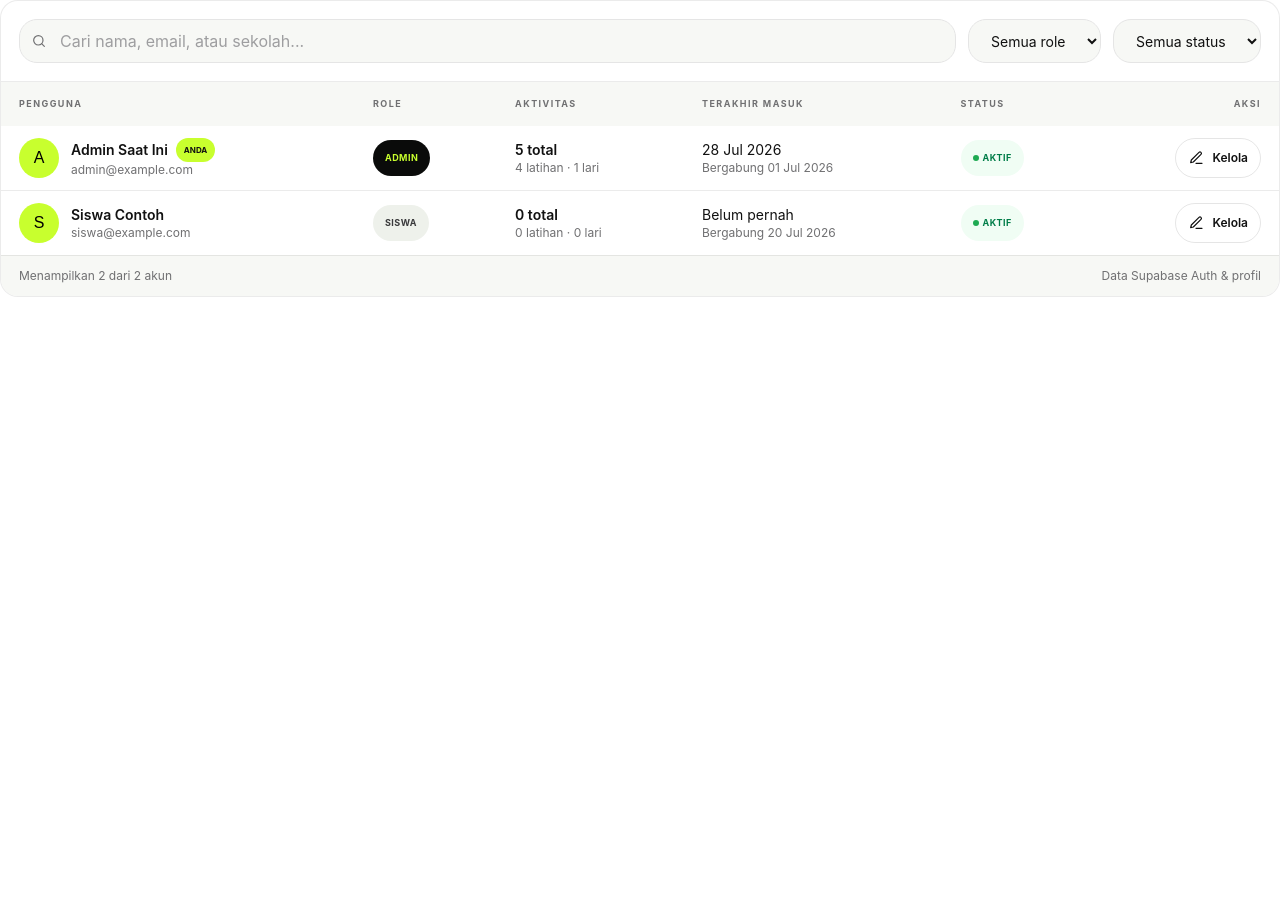
Test: AdminUsersManager › filters users and protects the currently signed-in administrator
Type "Siswa Contoh" into the field with placeholder "Cari nama, email, atau sekolah...".
click(488, 41); type("Siswa Contoh")  # box [19,19,956,63]
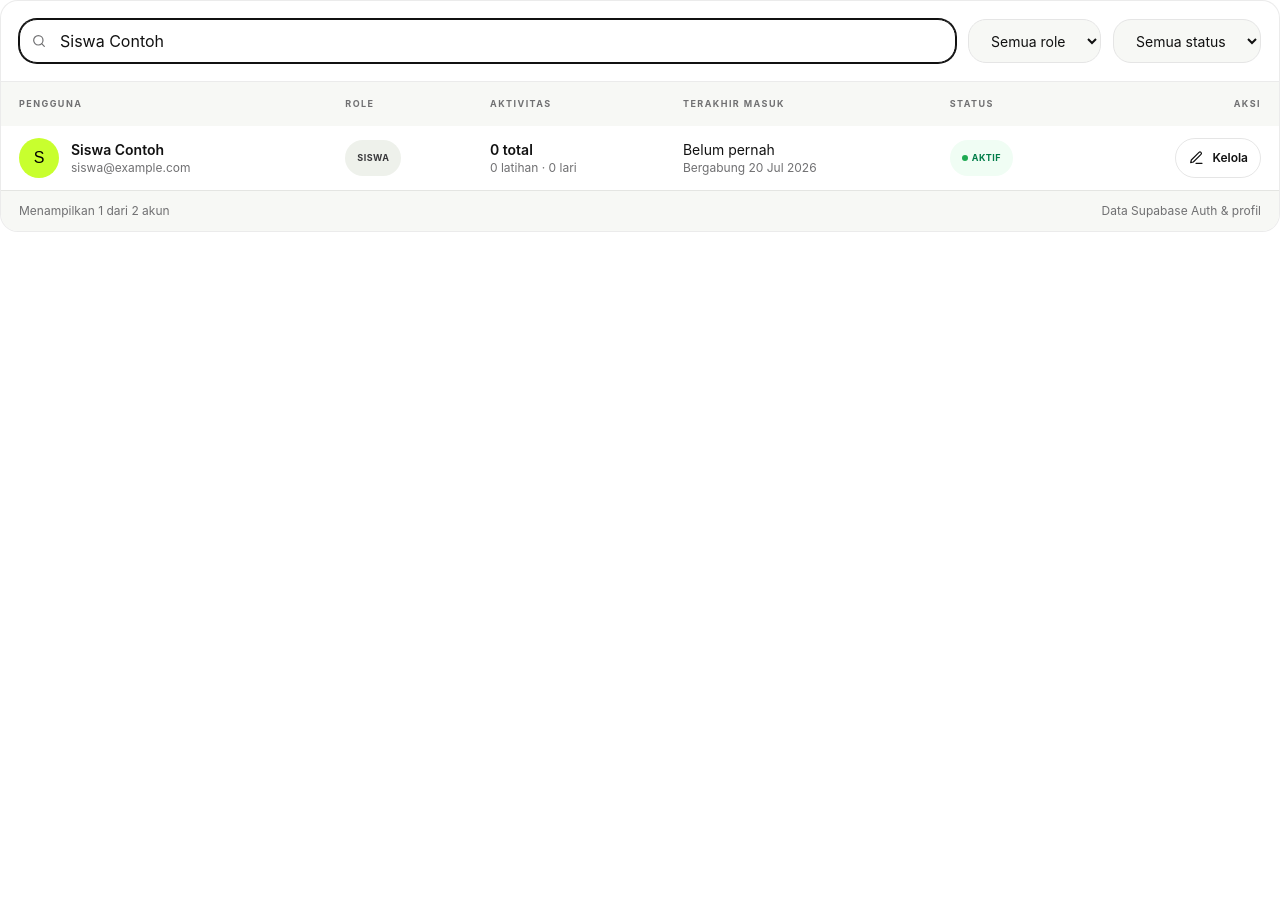
Expected: the text "Siswa Contoh" is shown, [71,140,164,160]
Expected: the text "admin@example.com" is gone
Clear the field with placeholder "Cari nama, email, atau sekolah..." at point(488, 41), box [19,19,956,63]
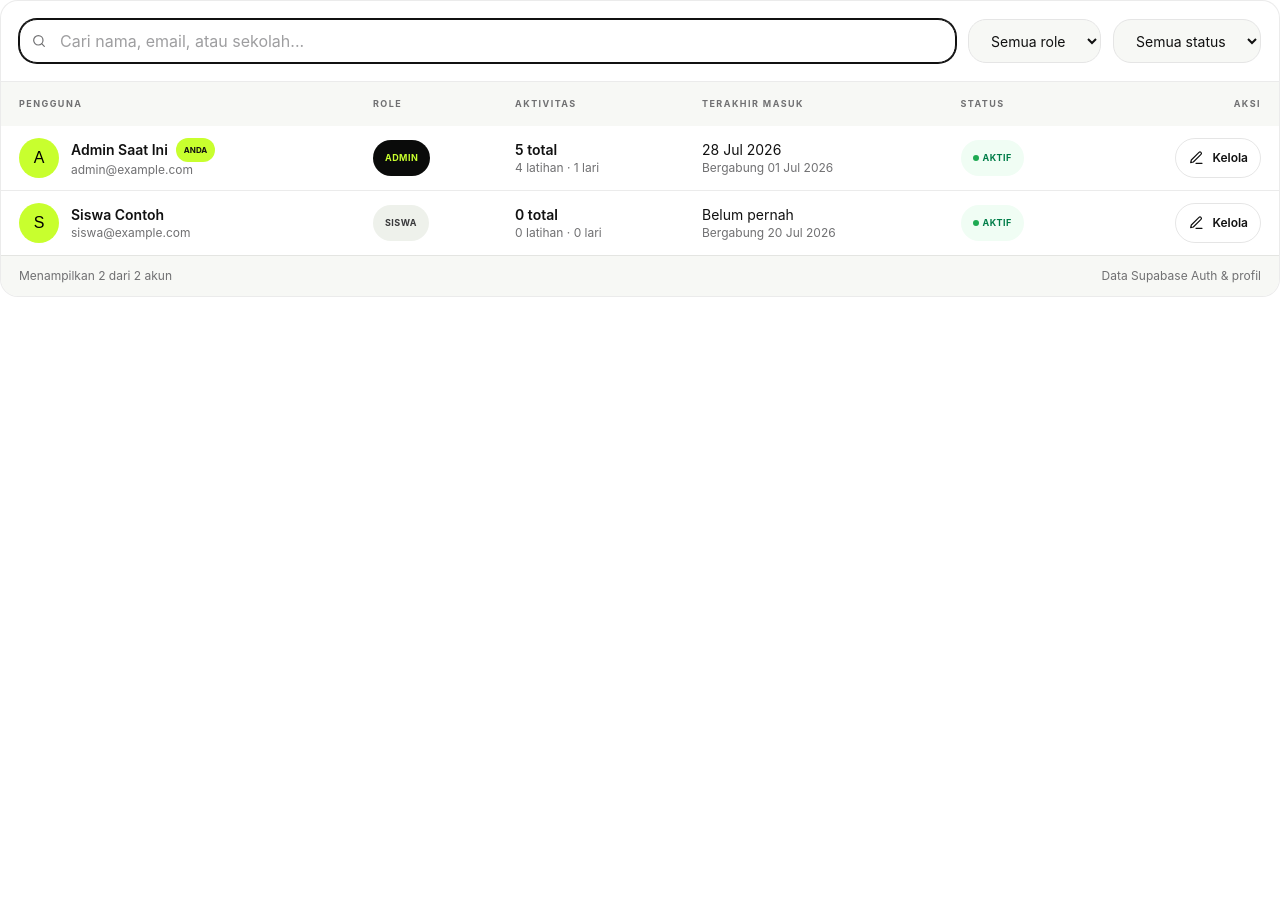
Expected: the text "Admin Saat Ini" is shown, [71,141,168,158]
Click the button "Kelola" in the row of "Admin Saat Ini".
click(1218, 158)  # box [1176,138,1261,178]
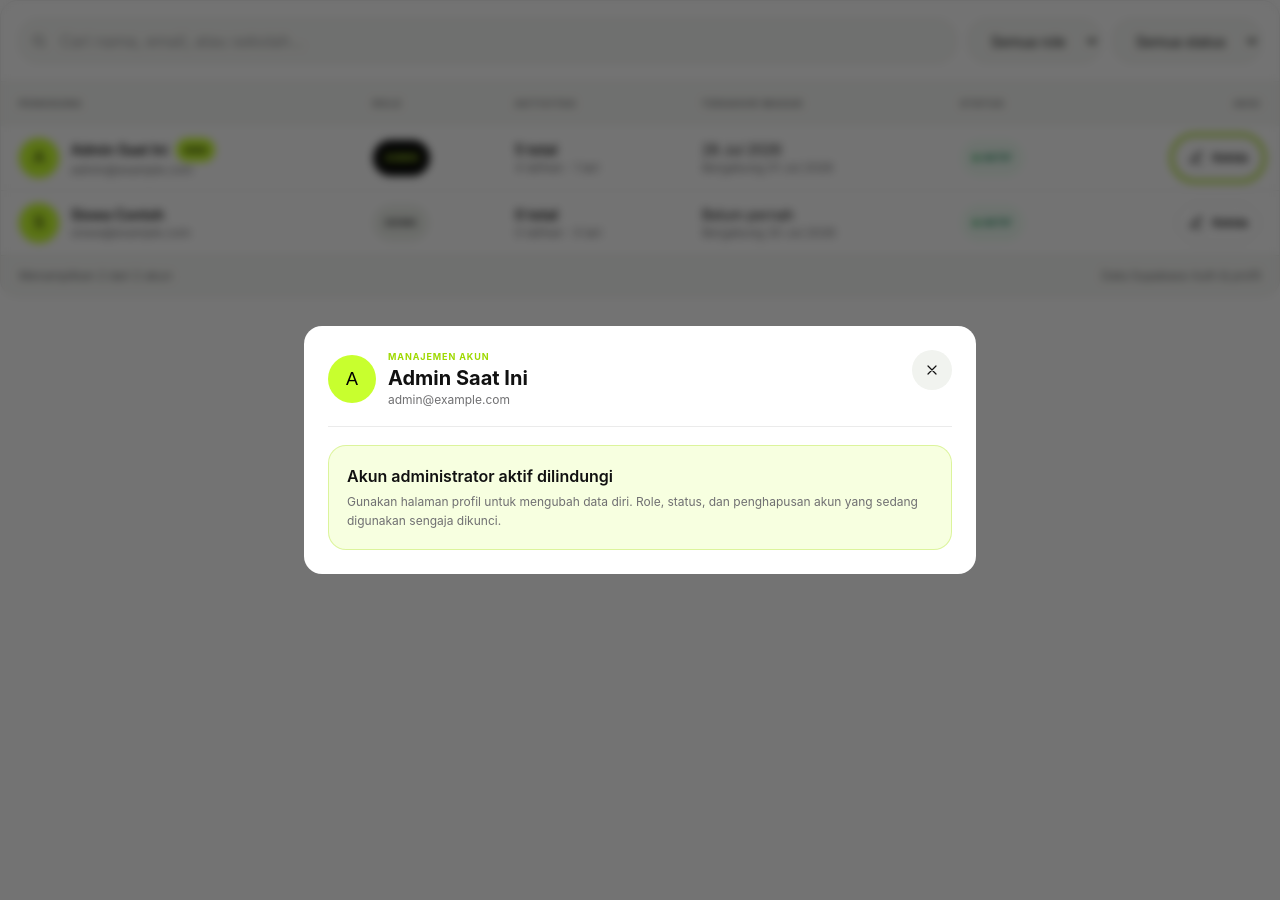
Expected: the dialog is shown, [304,326,976,574]
Expected: the text "Akun administrator aktif dilindungi" is shown, [347,466,613,486]
